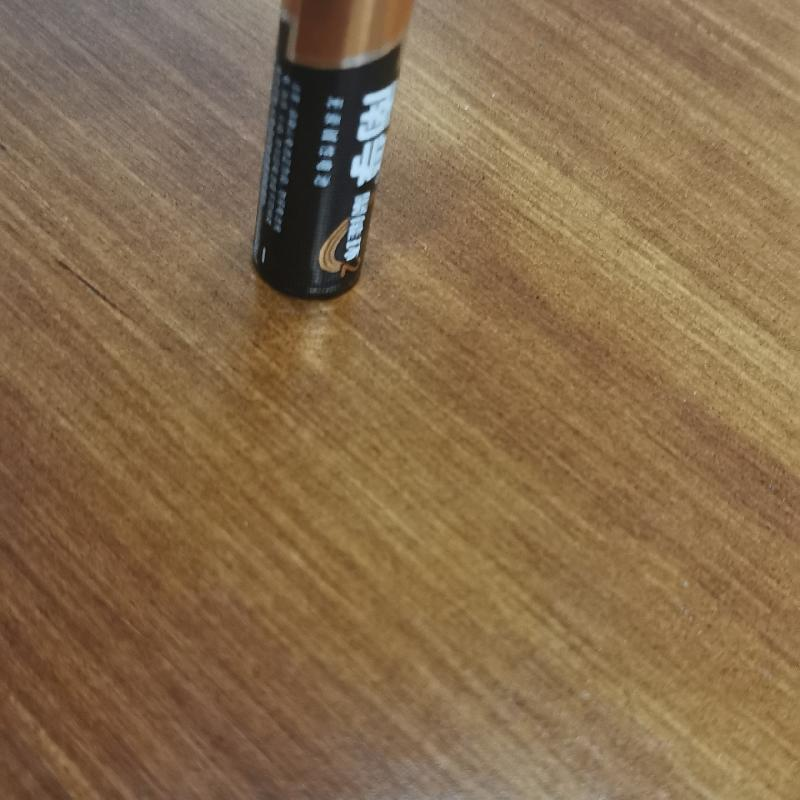battery: (246, 0, 414, 302)
